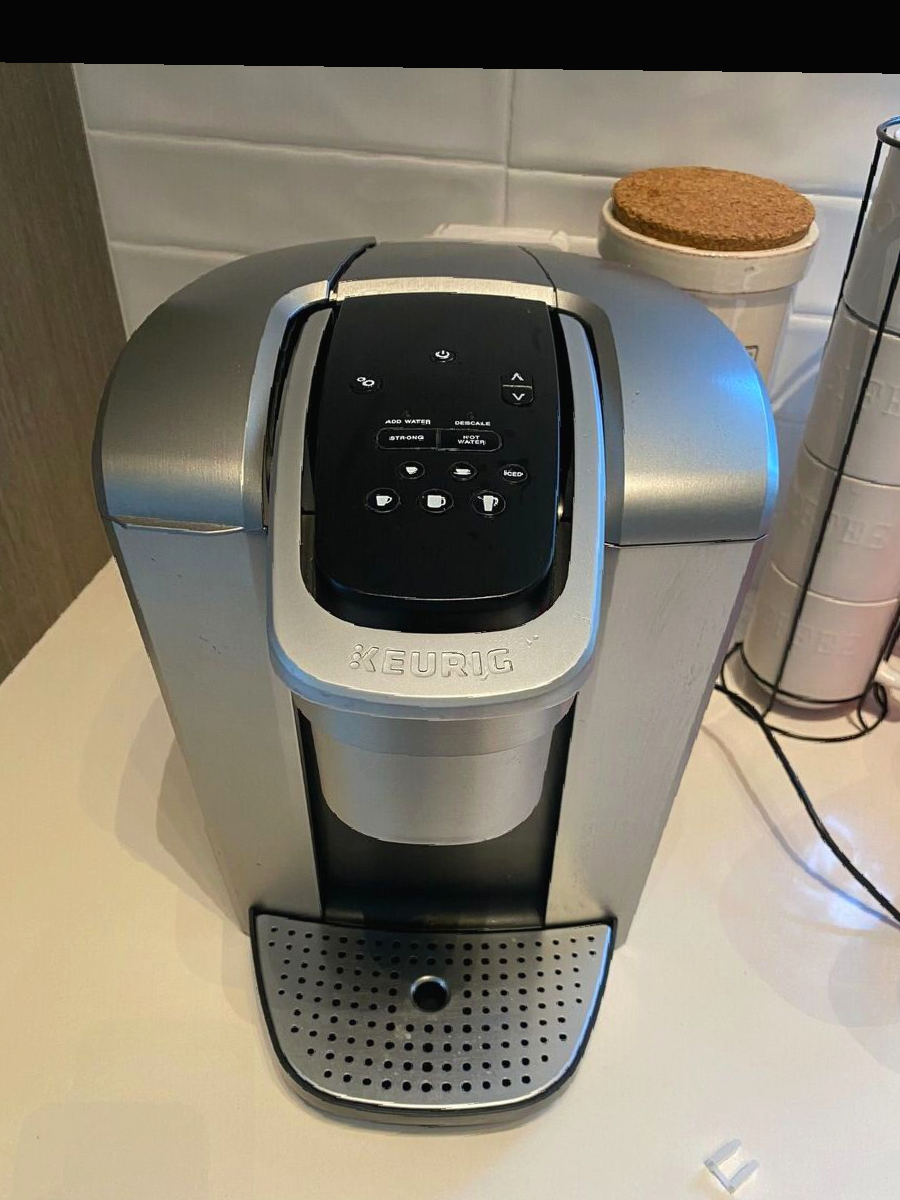10oz: (415, 486, 455, 514)
12oz: (468, 490, 508, 518)
4oz: (398, 457, 426, 482)
6oz: (448, 460, 481, 484)
8oz: (363, 486, 403, 514)
add_water: (375, 400, 438, 425)
coffee_handle: (304, 683, 553, 726)
descale: (440, 400, 503, 425)
hot: (440, 426, 503, 451)
iced: (497, 461, 531, 485)
platform: (405, 969, 455, 1017)
power: (429, 345, 459, 365)
strong: (376, 425, 439, 451)
water_handle: (109, 508, 244, 543)
